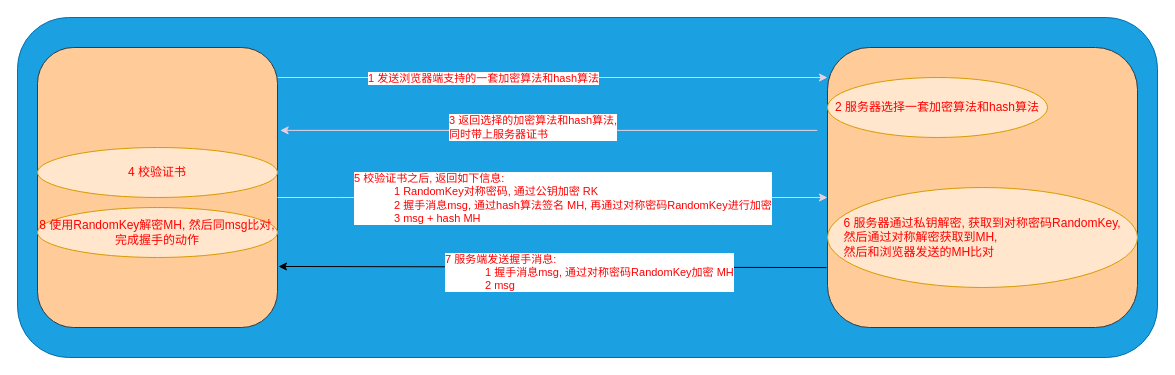
The diagram is 1175 pixels wide and 375 high, and some of its shapes have lost their labels. The shapes that lost their labels are listed below. From the top down, each one's box as (x1, y1, x2, y2) in pixels, then its label:
(36, 46, 278, 328): 浏览器
(826, 46, 1138, 328): 服务端
